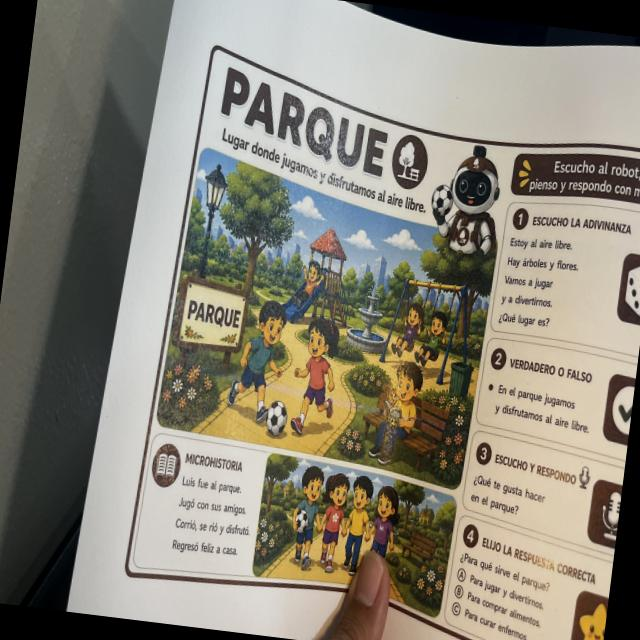parque: (115, 33, 640, 640)
